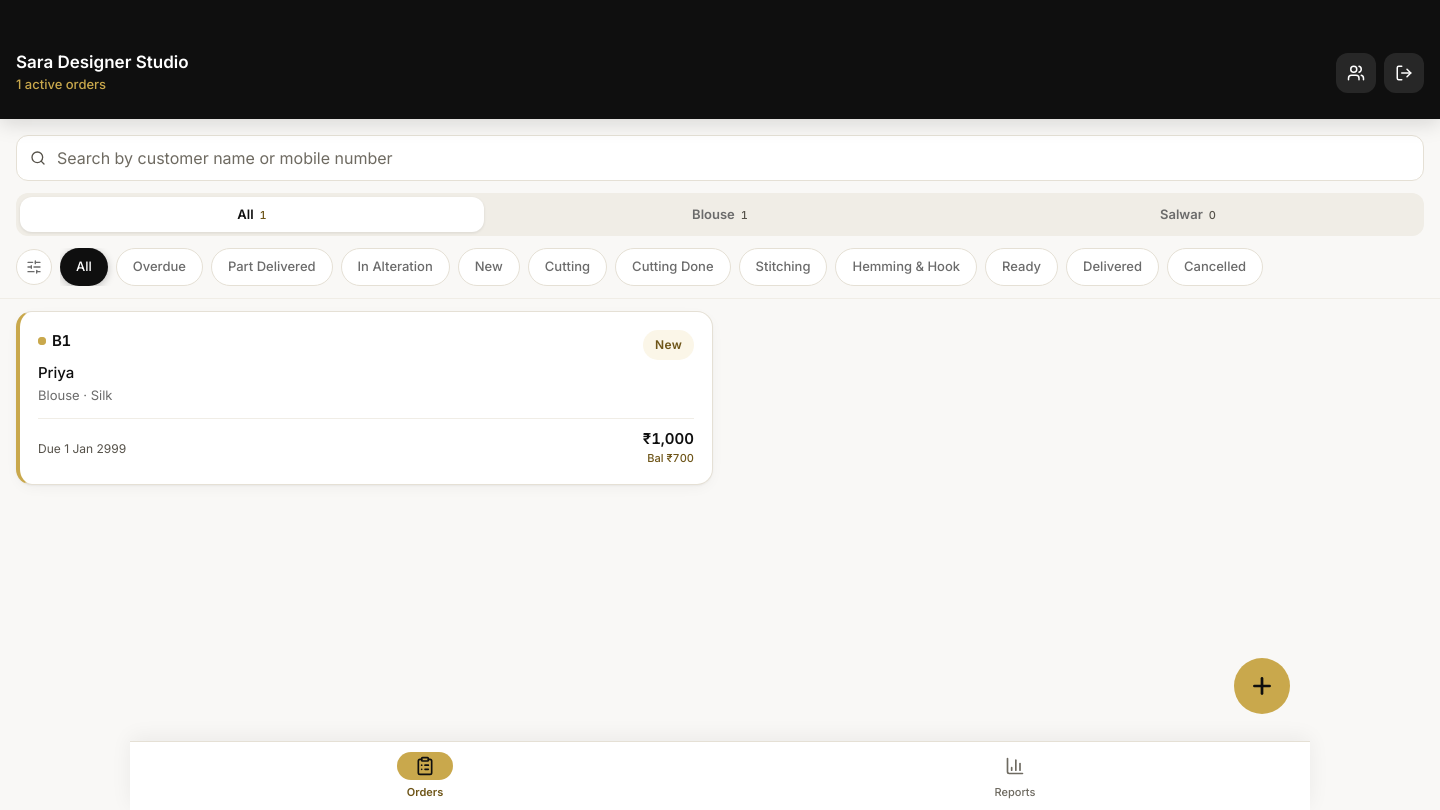
Test: OrdersBody › Blouse / Salwar tabs › names the book in the empty state
The image size is (1440, 810).
What coordinates should you click on to do the following:
click the tab "Salwar0"
I would click on:
 (1188, 215)
Its box is left=956, top=197, right=1420, bottom=232.
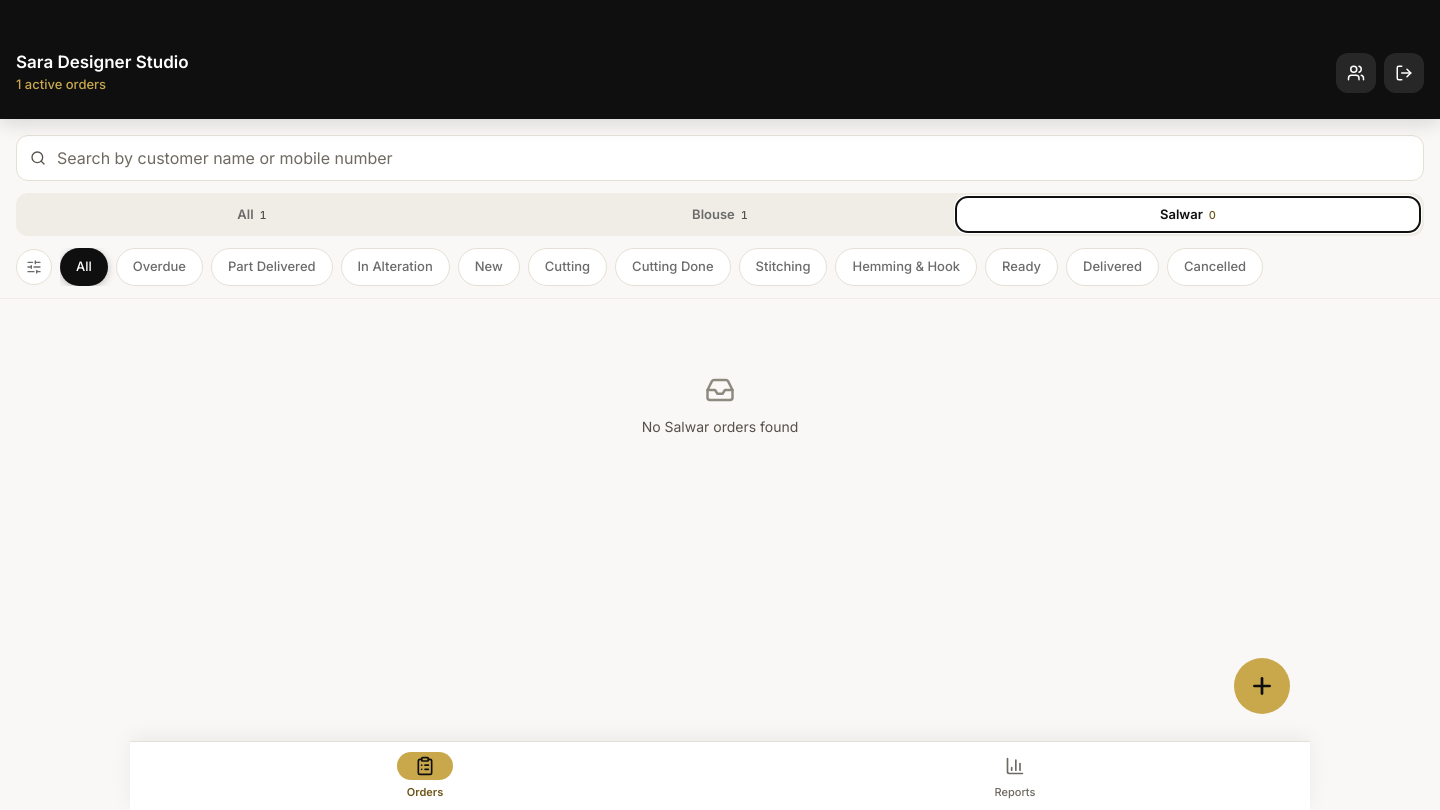
Check: the text "No Salwar orders found" is shown, box left=642, top=418, right=798, bottom=435
